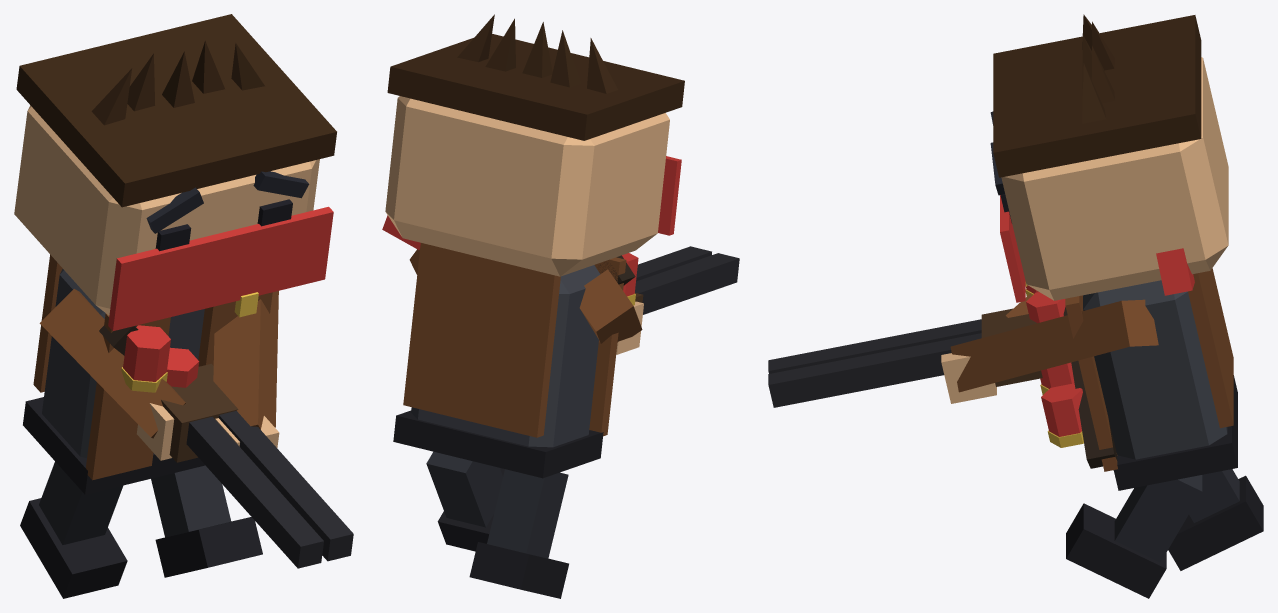
File: shotgunner.glb
The picture shows the model from 3 angles, left to right: view 1: azimuth 30°, elevation 25°; view 2: azimuth 150°, elevation 25°; view 3: azimuth 270°, elevation 25°; orthographic projection. The views are drawn at different scales.
Parts seen in each view (by area): view 1: shotgunner_mesh; view 2: shotgunner_mesh; view 3: shotgunner_mesh.
Part boxes in pixels (x1,y1,x2,y2): shotgunner_mesh: (14, 14, 353, 598); shotgunner_mesh: (382, 14, 739, 598); shotgunner_mesh: (768, 14, 1263, 598).
Size of the model in its own units: 0.6641 by 1.5 by 1.24.
Materials: 1 (1 with a texture image).
